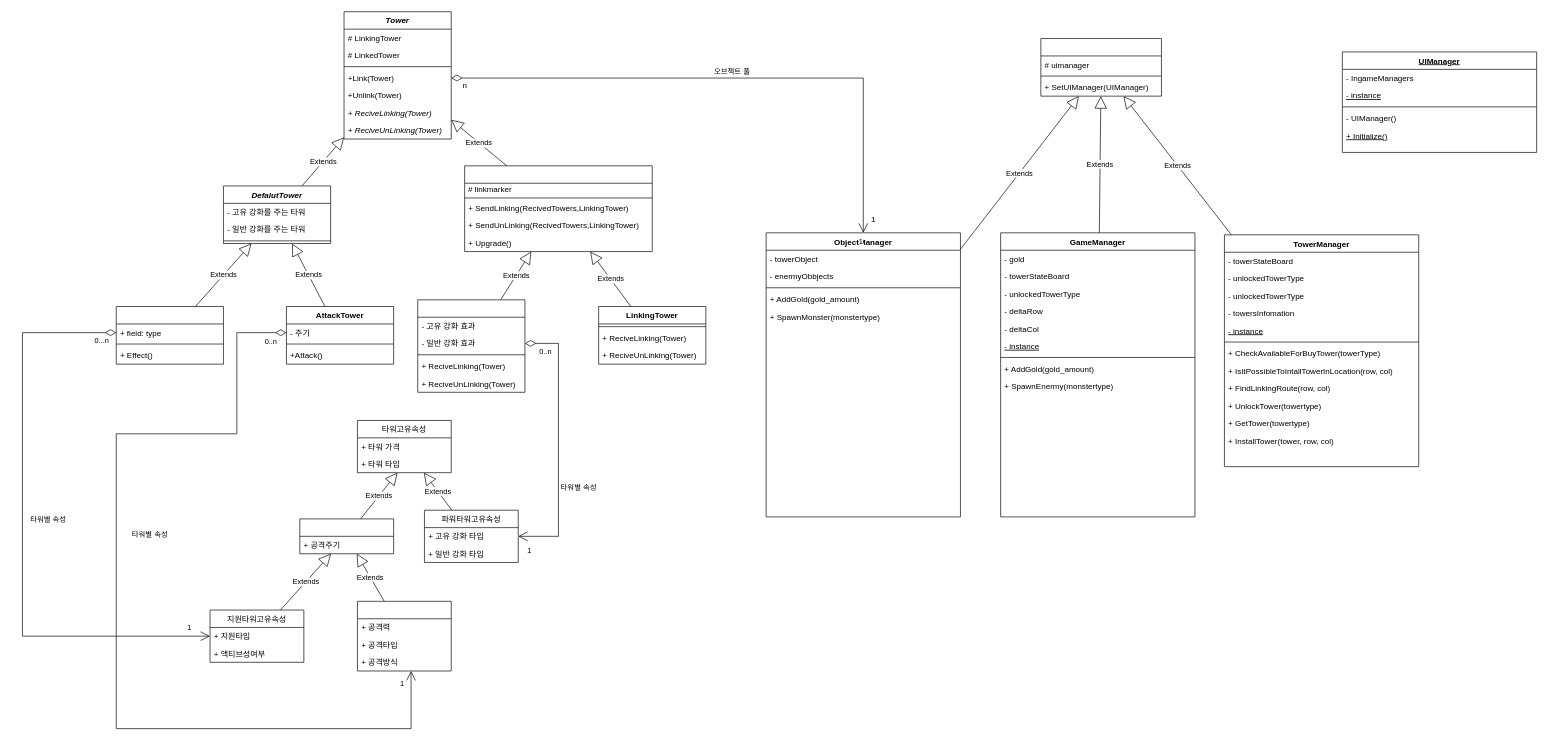
Some shapes in this 1548 by 752 pixel diagram are drawn without their labels. Here are the shapes that lost their labels. From the top down, the box of each, then its label:
(1040, 38, 1161, 96): IngameManager
(464, 165, 652, 252): LinkTower
(116, 306, 223, 364): SupportTower
(417, 299, 525, 392): PowerTower
(299, 518, 394, 554): 기본타워고유속성
(357, 601, 451, 671): 공격타워고유속성
